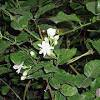jasmine: (38, 23, 60, 57), (9, 58, 36, 84)
